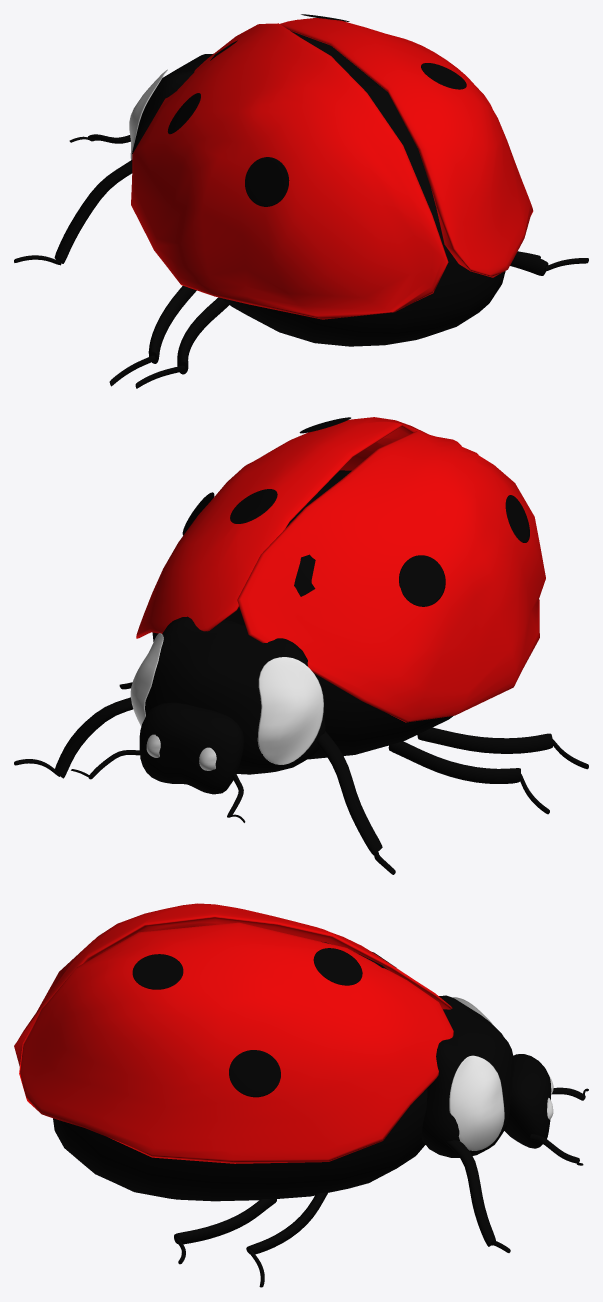
File: ladybug_idle.fbx
The picture shows the model from 3 angles, top to bottom: view 1: azimuth 30°, elevation 25°; view 2: azimuth 150°, elevation 25°; view 3: azimuth 270°, elevation 25°; orthographic projection. The views are drawn at different scales.
Visible parts, largest first — view 1: pasted__pasted__pSphere4, pasted__pSphere5, pasted__pSphere1, pSphere5, pasted__pasted__pCylinder5, pasted__pCylinder4, pasted__pCylinder3, pasted__pCylinder8; view 2: pasted__pasted__pSphere4, pSphere5, pasted__pSphere5, pasted__pSphere1, pasted__pasted__pCylinder5, pasted__pCylinder4, pasted__pCylinder3; view 3: pasted__pSphere5, pSphere5, pasted__pSphere1, pasted__pasted__pSphere4, pasted__pCylinder8, pasted__pasted__pCylinder7, pasted__pCylinder6.
Boxes of the visible parts, x1,y1,x2,y2 form: pasted__pasted__pSphere4: [131, 23, 448, 319]; pasted__pSphere5: [280, 14, 533, 277]; pasted__pSphere1: [210, 30, 505, 346]; pSphere5: [14, 36, 588, 388]; pasted__pasted__pCylinder5: [14, 160, 132, 265]; pasted__pCylinder4: [109, 286, 196, 386]; pasted__pCylinder3: [136, 299, 228, 388]; pasted__pCylinder8: [510, 251, 588, 275]; pasted__pasted__pSphere4: [237, 431, 545, 722]; pSphere5: [14, 470, 588, 874]; pasted__pSphere5: [136, 417, 428, 638]; pasted__pSphere1: [152, 470, 452, 759]; pasted__pasted__pCylinder5: [317, 731, 395, 874]; pasted__pCylinder4: [388, 742, 549, 813]; pasted__pCylinder3: [417, 728, 588, 768]; pasted__pSphere5: [19, 922, 453, 1163]; pSphere5: [55, 942, 588, 1287]; pasted__pSphere1: [53, 953, 427, 1201]; pasted__pasted__pSphere4: [14, 903, 452, 1066]; pasted__pCylinder8: [174, 1199, 276, 1264]; pasted__pasted__pCylinder7: [246, 1192, 327, 1287]; pasted__pCylinder6: [445, 1140, 510, 1252].
Size of the model in its own units: 4.48 by 2.93 by 5.33.
